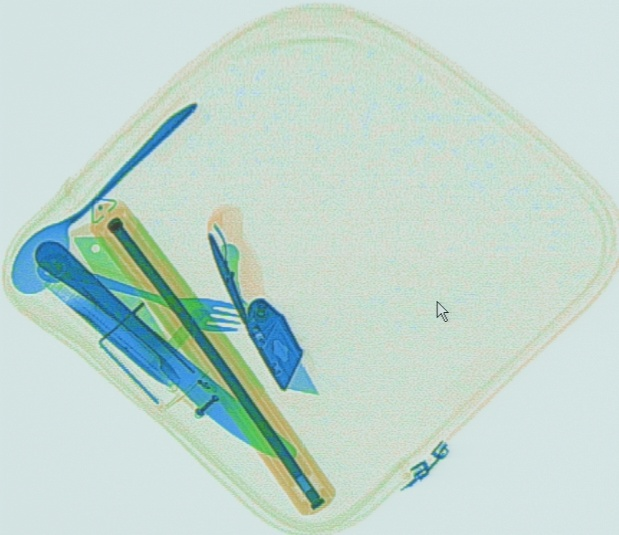knife: (33, 239, 298, 461), (204, 202, 317, 398), (72, 235, 176, 354), (156, 307, 207, 367)
